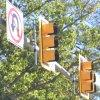traffic lights: (39, 19, 60, 69)
